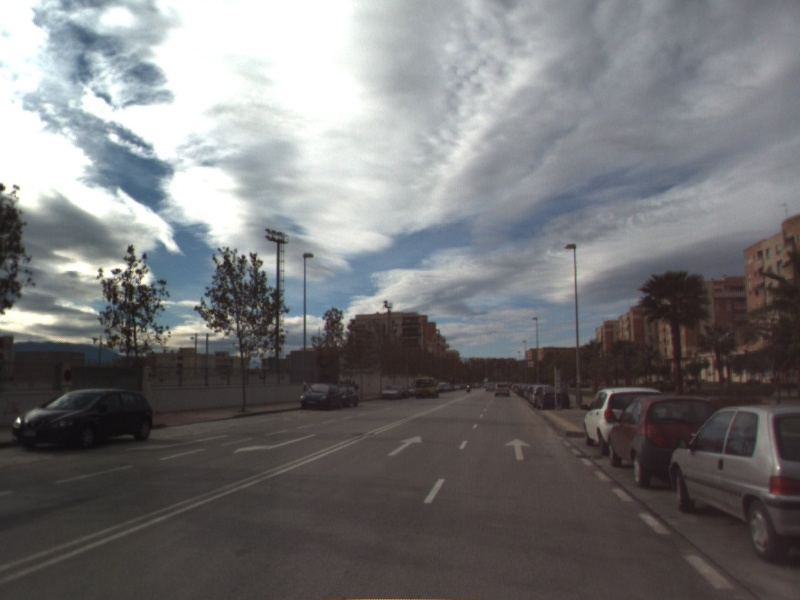STRAIGHT: (386, 434, 424, 458), (502, 436, 533, 462)
